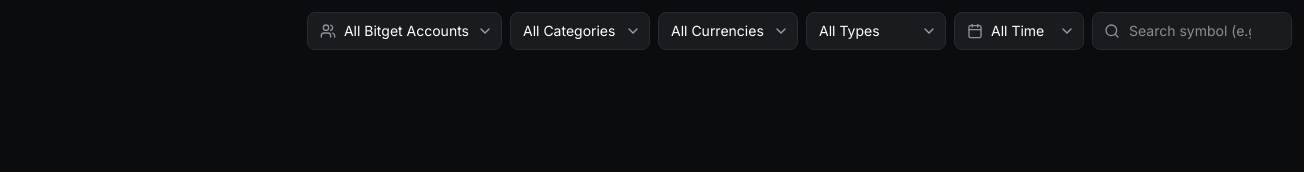
Bitget transaction components (components/transactions/BitgetTransactions) › BitgetTransactionFilters › propagates the typed search term through setFilters
The width and height of the screenshot is (1304, 172).
Type "ETH" into the field with placeholder "Search symbol (e.g. BTC, ETH)...".
click(1192, 31); type("ETH")  # box 1092,12 -> 1292,50
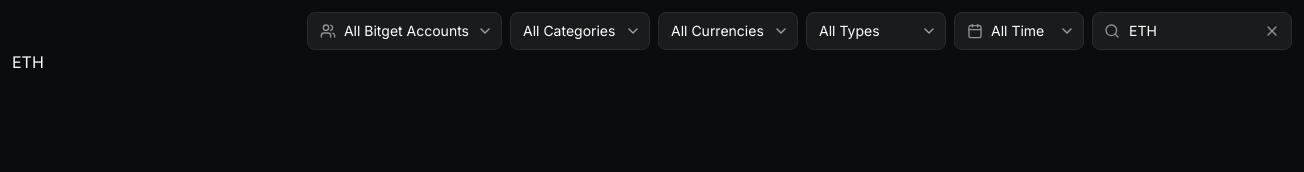
Result: the text with test id "filters-search" reads "ETH" at 12,52 -> 44,72
